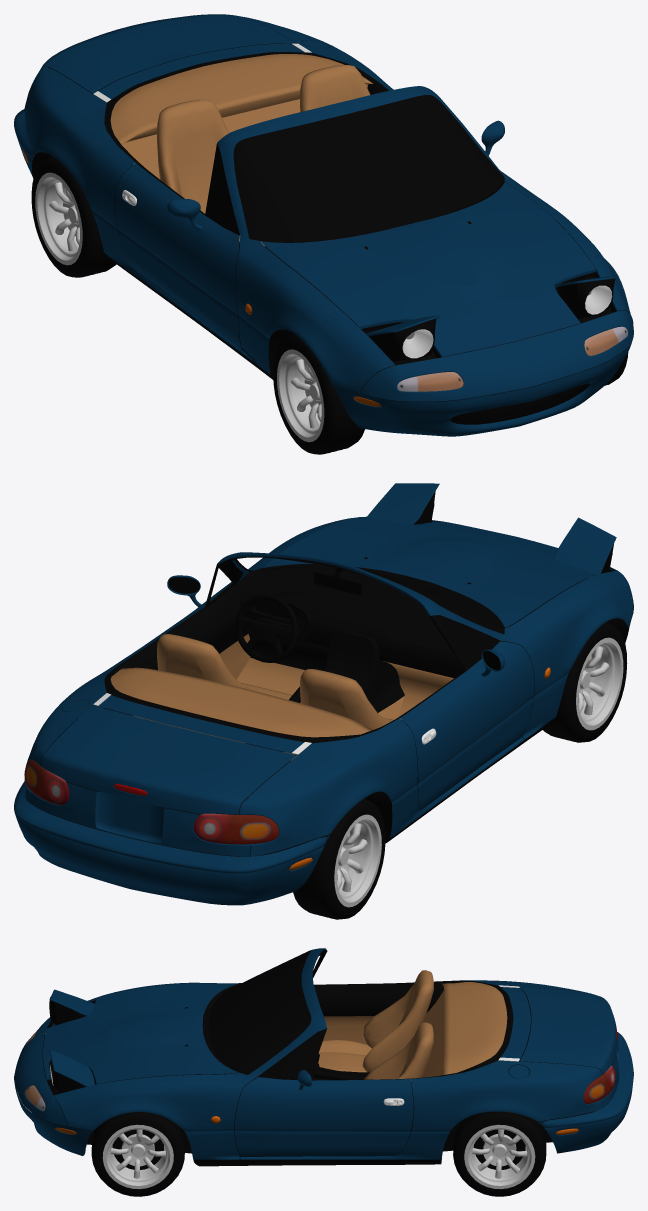
File: miata.glb
The picture shows the model from 3 angles, top to bottom: view 1: azimuth 30°, elevation 25°; view 2: azimuth 150°, elevation 25°; view 3: azimuth 270°, elevation 25°; orthographic projection. The views are drawn at different scales.
Parts seen in each view (by area): view 1: Body, Right Front, Right Rear, Cube.007, Interior Shell; view 2: Body, Right Rear, Right Front, Cube.007; view 3: Body, Left Rear, Left Front, Cube.007, Interior Shell.
Part boxes in pixels (x1,y1,x2,y2): Body: [14, 14, 633, 436]; Right Front: [273, 333, 364, 454]; Right Rear: [31, 156, 116, 277]; Cube.007: [366, 276, 617, 361]; Interior Shell: [28, 43, 618, 424]; Body: [14, 516, 633, 905]; Right Rear: [293, 798, 385, 919]; Right Front: [543, 622, 627, 742]; Cube.007: [366, 483, 616, 577]; Body: [14, 948, 633, 1166]; Left Rear: [453, 1111, 546, 1196]; Left Front: [91, 1112, 184, 1196]; Cube.007: [49, 989, 94, 1093]; Interior Shell: [37, 990, 614, 1163].
Bounding box in the file's own units: 1.24 × 0.8024 × 2.66.
13 materials, 1 textured.
